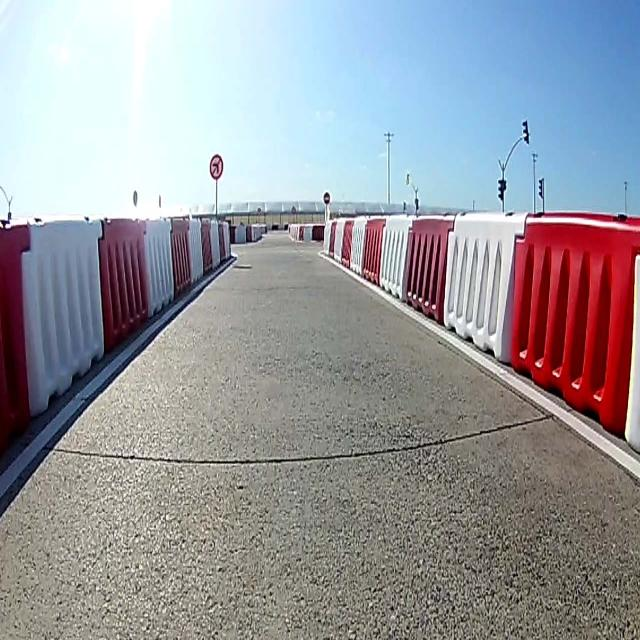girisyok: (323, 190, 330, 203)
soladonulmez: (209, 154, 223, 178)
